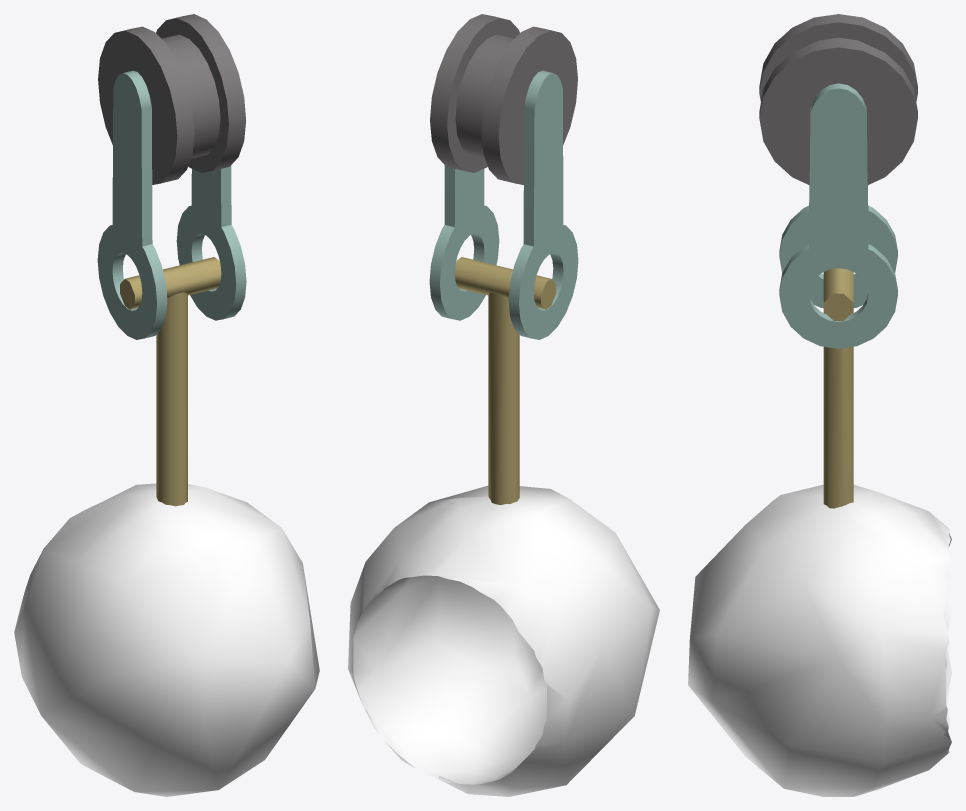
Rendered from zipC1.obj.
3 views of the same model, side by side, from view 1: azimuth 30°, elevation 25°; view 2: azimuth 150°, elevation 25°; view 3: azimuth 270°, elevation 25° (orthographic).
Parts seen in each view (by area): view 1: zip2; view 2: zip2; view 3: zip2.
Part boxes in pixels (box(x1,y1,x2,y2)): zip2: box(14, 14, 319, 796); zip2: box(348, 14, 659, 796); zip2: box(688, 14, 951, 796).
Bounding box in the file's own units: 0.7608 × 2.1 × 0.6666.
